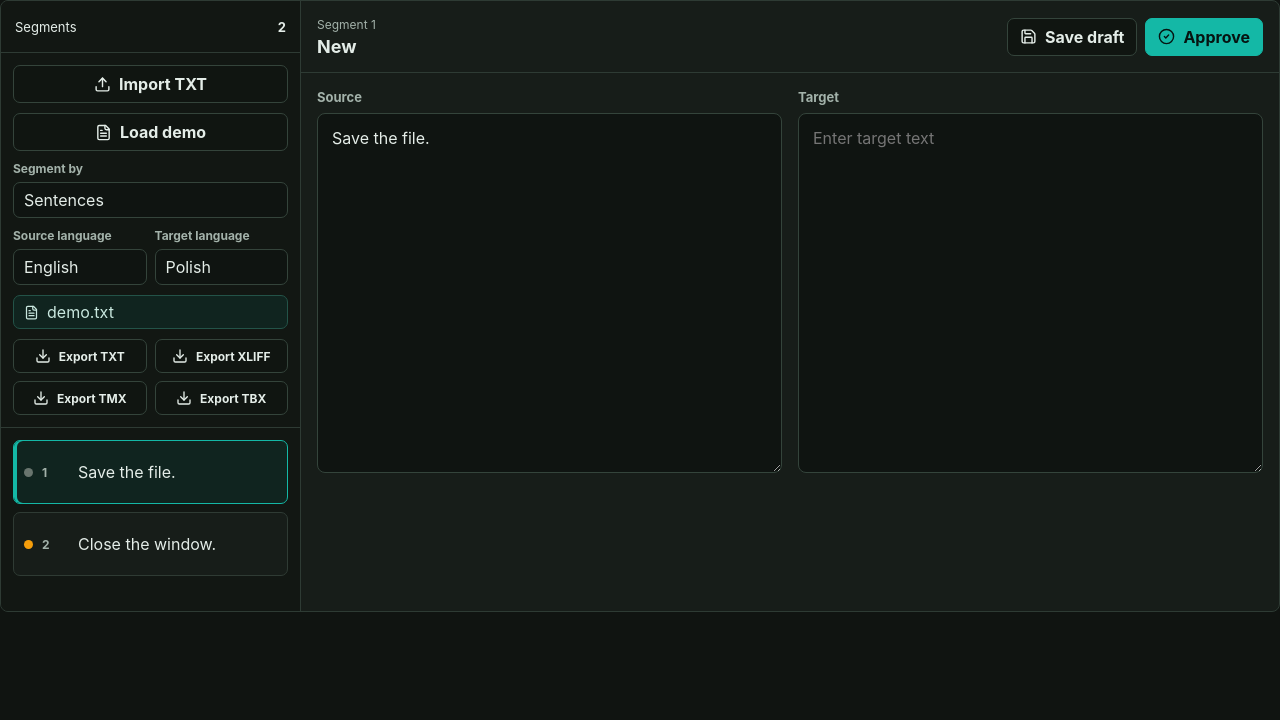
Scenario: loads the latest document and switches the active segment
This screenshot has width=1280, height=720.
expect the text "Save the file." is shown: met, box x1=78 y1=462 x2=176 y2=482
Click the button "2 Close the window." at (150, 544), box x1=13 y1=512 x2=288 y2=576
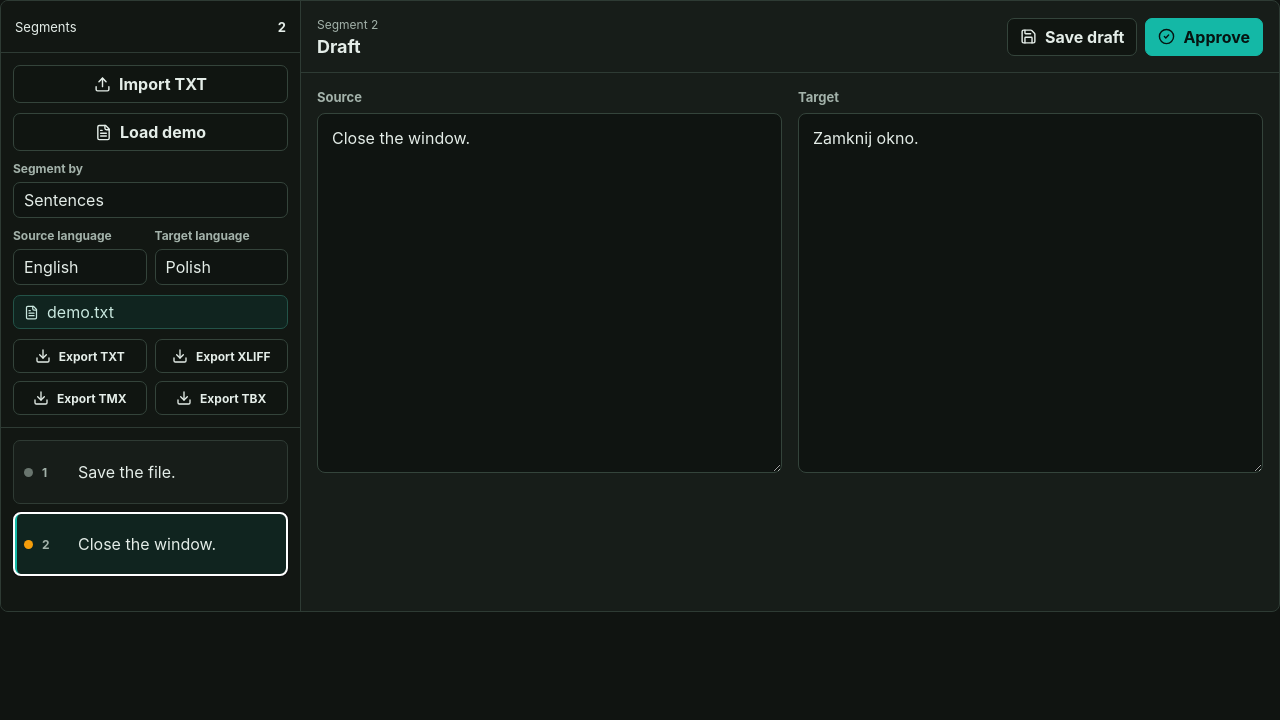
expect the text box labelled "Source" holds "Close the window.": met, box x1=317 y1=113 x2=782 y2=473
